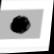correct: (5, 11, 37, 36)
